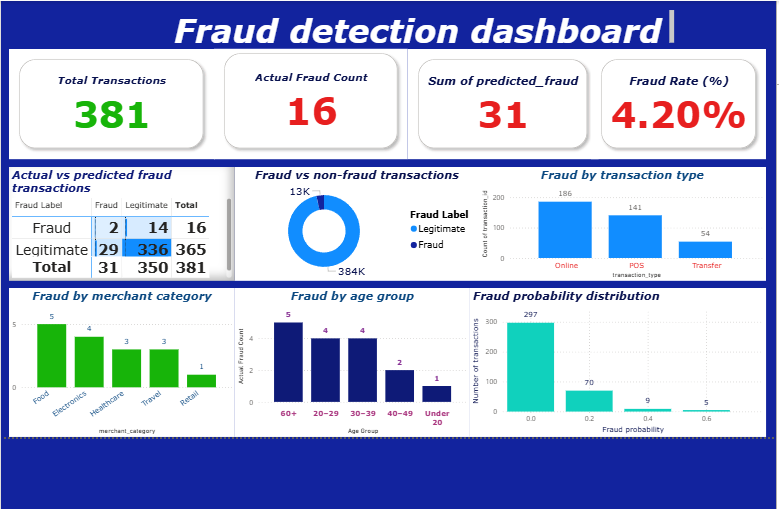

Layout of this report page (visuals, bound fields, positions):
{"tool":"powerbi","page":{"name":"Fraud detection dashboard","canvas":[1280,720],"ordinal":4},"visuals":[{"type":"cardVisual","fields":{"Data":["fraud_detection_results.Total Transactions"]},"box":[13.2,79.3,338.6,181.7],"z":0},{"type":"cardVisual","fields":{"Data":["fraud_detection_results.Actual Fraud Count"]},"box":[351.8,69.4,320.4,191.6],"z":1000},{"type":"cardVisual","fields":{"Data":["Sum(fraud_detection_results.predicted_fraud)"]},"box":[672.2,79.3,313.8,181.7],"z":2000},{"type":"cardVisual","fields":{"Data":["fraud_detection_results.Fraud Rate (%)"]},"box":[974.5,79.3,289,181.7],"z":3000},{"type":"pivotTable","title":"Actual vs predicted fraud transactions","fields":{"Rows":["fraud_detection_results.Fraud Label"],"Columns":["fraud_detection_results.Predicted Fraud Label"],"Values":["CountNonNull(fraud_detection_results.transaction_id)"]},"box":[13.2,274.2,373.3,188.3],"z":4000},{"type":"clusteredColumnChart","title":"Fraud probability distribution","fields":{"Category":["fraud_detection_results.fraud_probability (bins)"],"Y":["CountNonNull(fraud_detection_results.transaction_id)"]},"box":[774.6,474,488.9,246.1],"z":5000},{"type":"clusteredColumnChart","title":"Fraud by merchant category","fields":{"Category":["fraud_detection_results.merchant_category"],"Y":["fraud_detection_results.Actual Fraud Count"]},"box":[13.2,474,373.3,246.1],"z":6000},{"type":"clusteredColumnChart","title":"Fraud  by age group","fields":{"Category":["fraud_detection_results.Age Group"],"Y":["fraud_detection_results.Actual Fraud Count"]},"box":[386.5,474,388.1,246.1],"z":7000},{"type":"textbox","box":[280.8,9.9,835.7,69.4],"z":8000},{"type":"donutChart","title":"Fraud vs non-fraud transactions","fields":{"Y":["Sum(fraud_detection_results.transaction_id)"],"Category":["fraud_detection_results.Fraud Label"]},"box":[386.5,274.2,403,188.3],"z":9000},{"type":"columnChart","title":"Fraud by transaction type","fields":{"Category":["fraud_detection_results.transaction_type"],"Y":["CountNonNull(fraud_detection_results.transaction_id)"]},"box":[789.5,274.2,474,188.3],"z":10000}]}

Visuals, with their boxes on the page's 1280x720 design canvas (x1, y1, x2, y2). These are canvas units, not pixel positions in the 779x509 screenshot, which may show the page scaled, cropped or inside an application window:
cardVisual - fraud_detection_results.Total Transactions: bbox=[13, 79, 352, 261]
cardVisual - fraud_detection_results.Actual Fraud Count: bbox=[352, 69, 672, 261]
cardVisual - Sum(fraud_detection_results.predicted_fraud): bbox=[672, 79, 986, 261]
cardVisual - fraud_detection_results.Fraud Rate (%): bbox=[974, 79, 1264, 261]
"Actual vs predicted fraud transactions" pivotTable: bbox=[13, 274, 386, 462]
"Fraud probability distribution" clusteredColumnChart: bbox=[775, 474, 1264, 720]
"Fraud by merchant category" clusteredColumnChart: bbox=[13, 474, 386, 720]
"Fraud  by age group" clusteredColumnChart: bbox=[386, 474, 775, 720]
textbox: bbox=[281, 10, 1116, 79]
"Fraud vs non-fraud transactions" donutChart: bbox=[386, 274, 790, 462]
"Fraud by transaction type" columnChart: bbox=[790, 274, 1264, 462]
